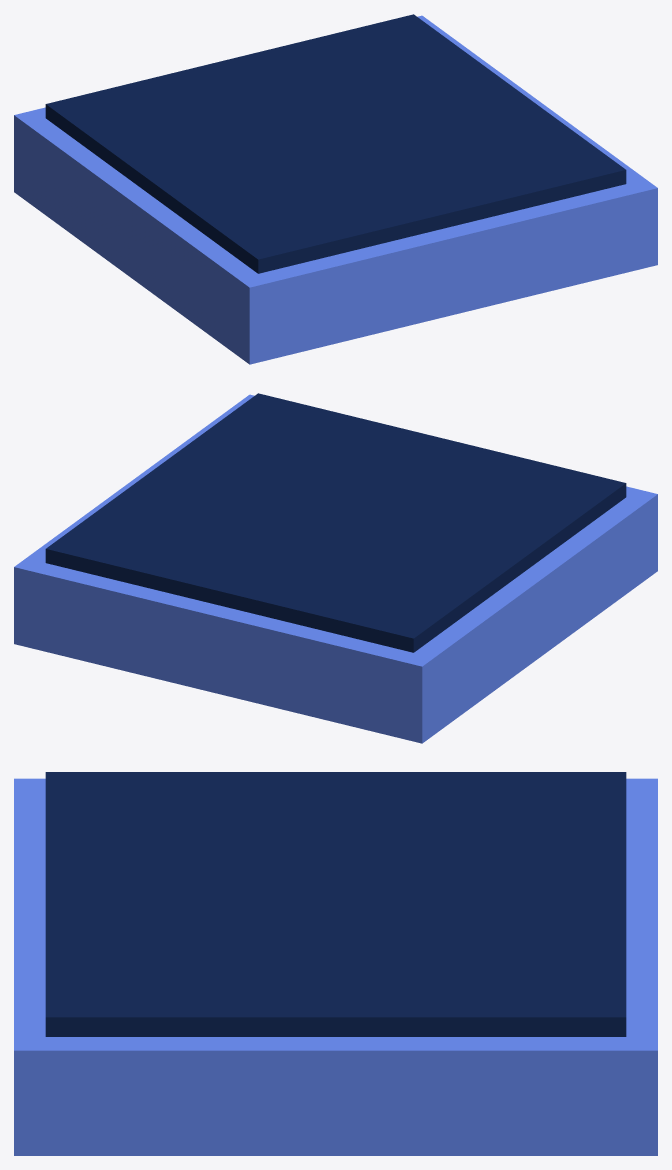
3 renders of one model, top to bottom at view 1: azimuth 30°, elevation 25°; view 2: azimuth 150°, elevation 25°; view 3: azimuth 270°, elevation 25°, orthographic. The views are drawn at different scales.
Parts seen in each view (by area): view 1: Cube.006, Plane.004; view 2: Cube.006, Plane.004; view 3: Cube.006, Plane.004.
Part boxes in pixels (left/top/right/bottom): Cube.006: left=45, top=14, right=626, bottom=273; Plane.004: left=14, top=15, right=657, bottom=364; Cube.006: left=45, top=393, right=626, bottom=652; Plane.004: left=14, top=394, right=657, bottom=743; Cube.006: left=45, top=772, right=626, bottom=1036; Plane.004: left=14, top=778, right=657, bottom=1155.
Size of the model in its own units: 11.09 by 2.38 by 11.09.
